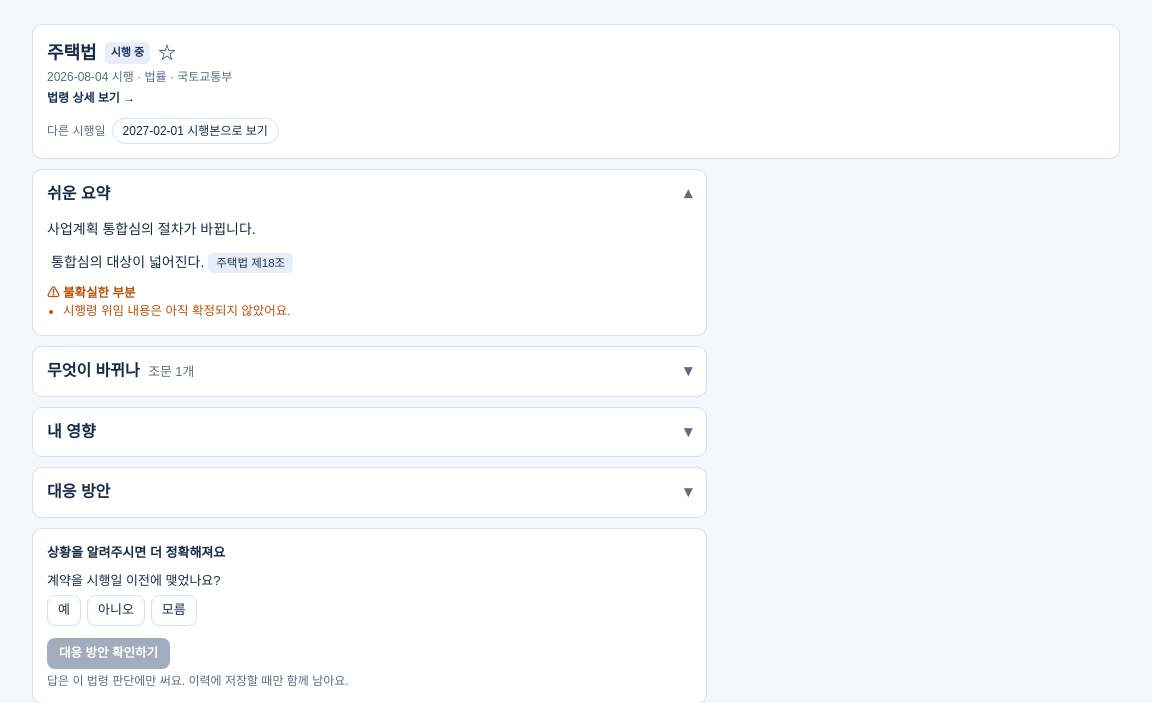
Test case: ResultView — 대응 방안 상황 확인(D71) › 다른 질문 묶음으로 저장된 옛 revision 은 보여 주지 않는다
Click the button "대응 방안 ▾": (79, 492) [33,468,706,517]
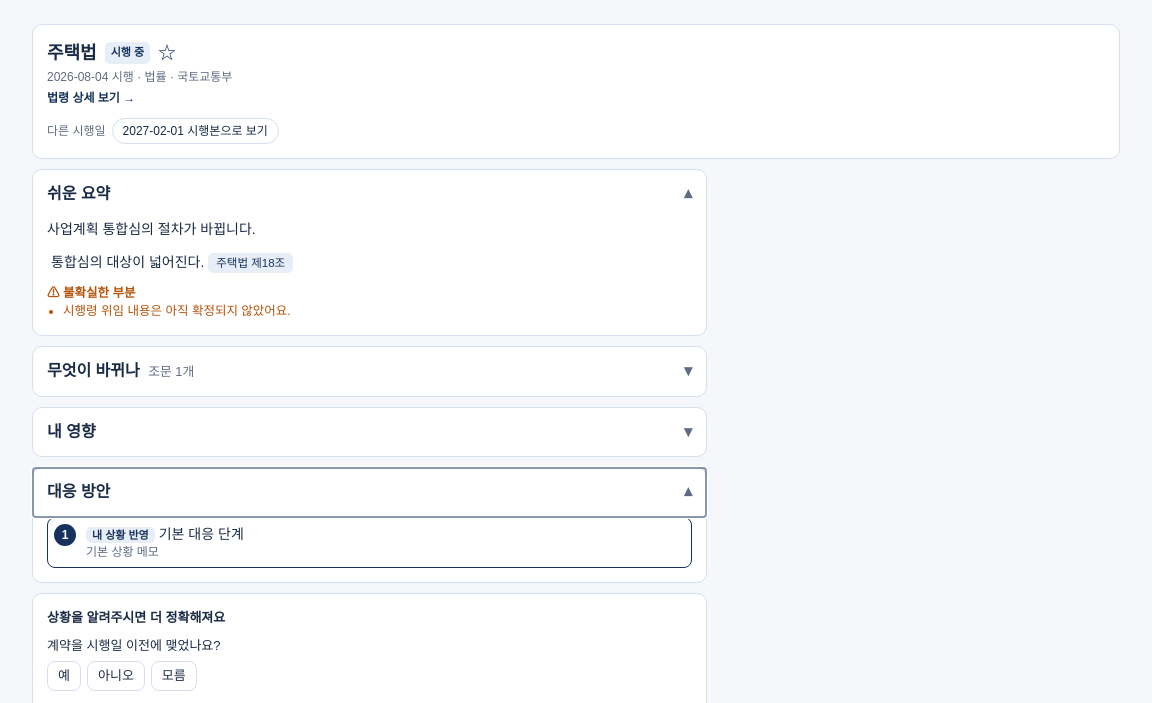
Expected: the text "기본 대응 단계" is shown, [159,526,244,542]
